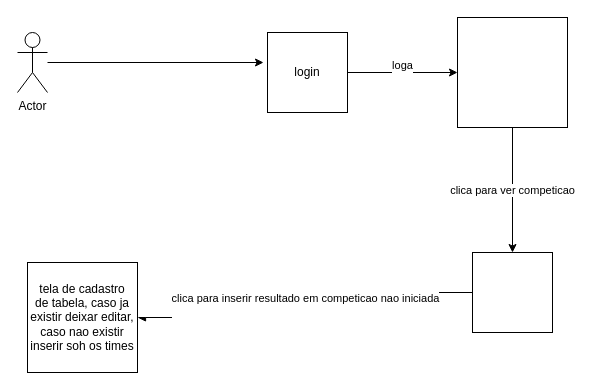
The diagram is 592 pixels wide and 390 high, and some of its shapes have lost their labels. Here are the shapes that lost their labels. From the top down, the centre of each, then its label:
At pixel 512 72: "lista de competicoes exibindo o placar do campeonato ativo".
At pixel 512 292: "dados competicao".
